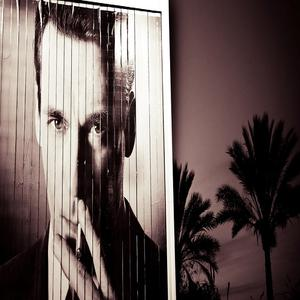cigarette: (73, 217, 83, 255)
